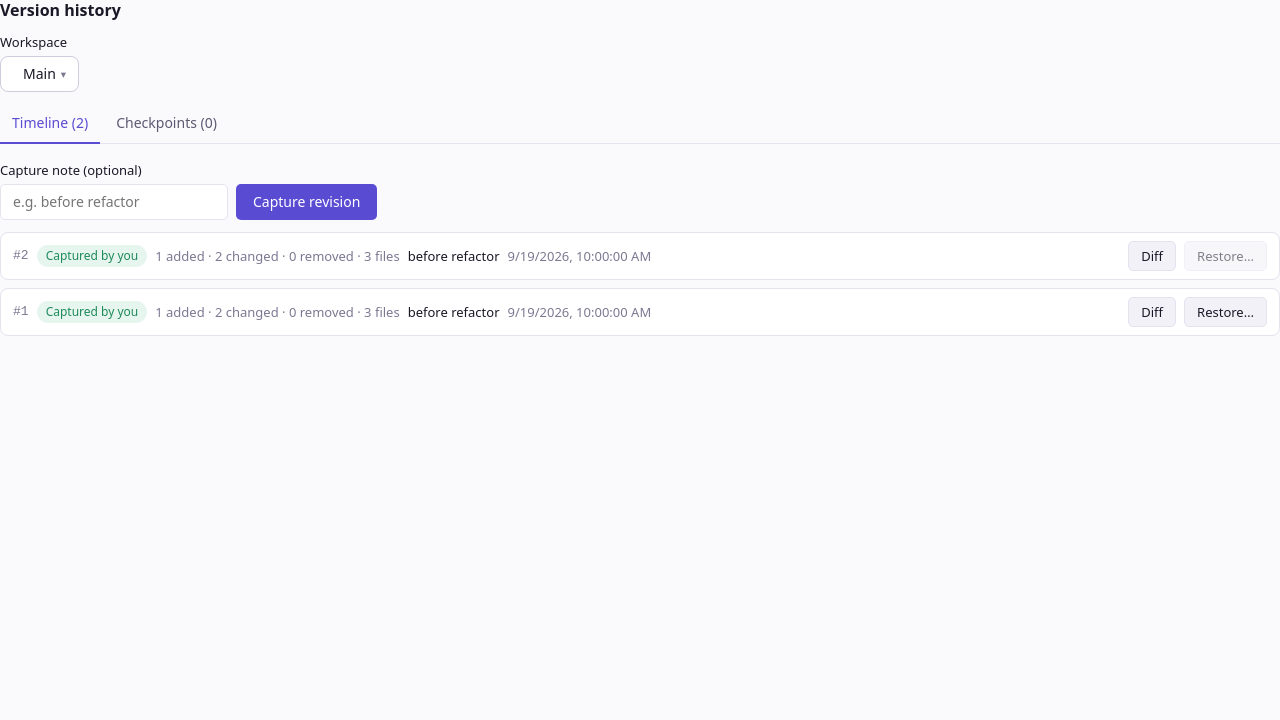
Scenario: VersionPanel › keeps the workspace untouched when the user backs out of a restore
Step 1. Click the 2nd button "Restore…" → click(1226, 312), box [1184,297,1267,327]
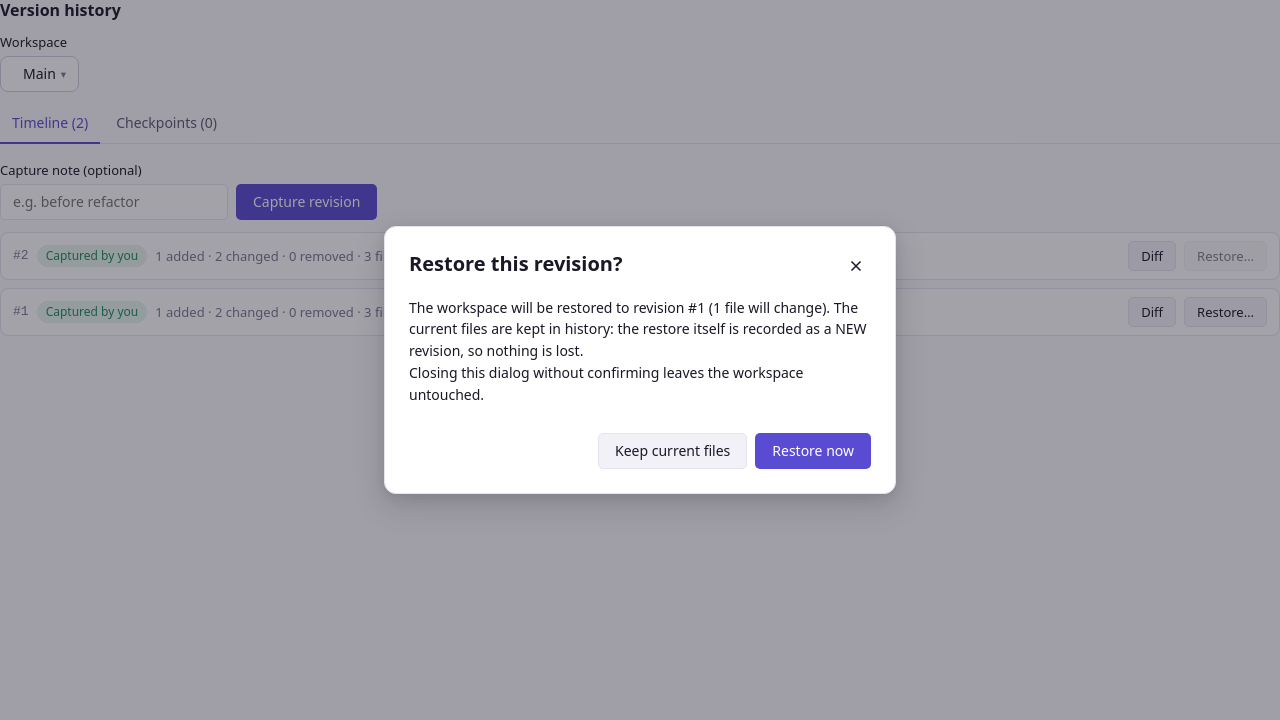
Step 2. Click the button "Keep current files" → click(673, 451), box [598,433,747,469]
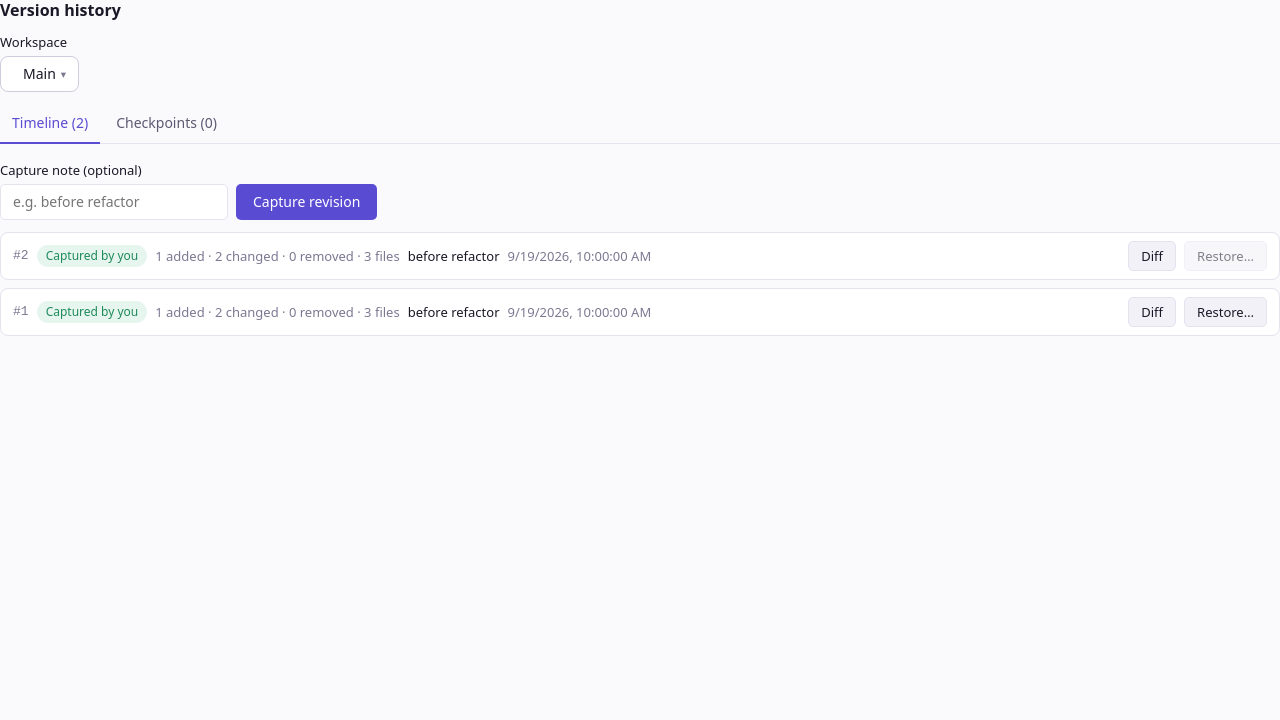
Expected: the heading "Restore this revision?" is gone
